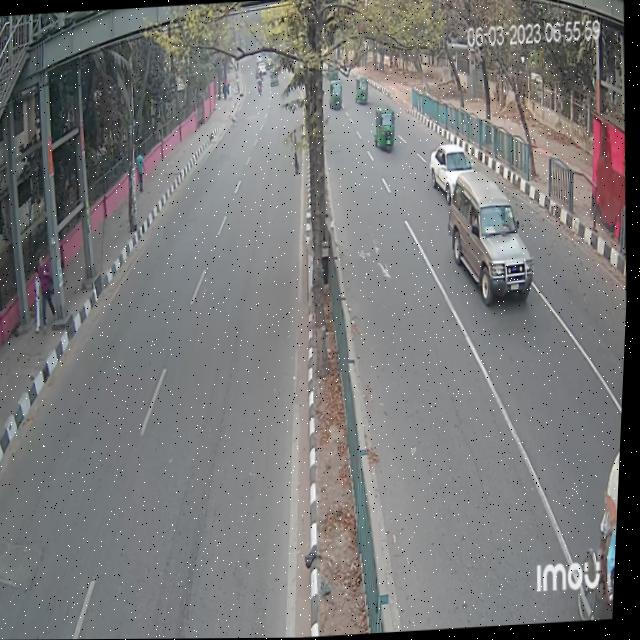cng: (372, 103, 402, 157), (327, 79, 346, 117), (355, 75, 372, 111)
